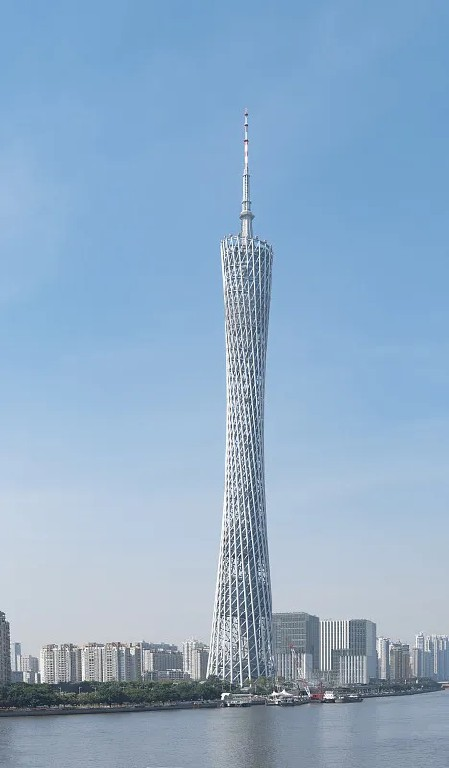Canton: (201, 105, 284, 684)
